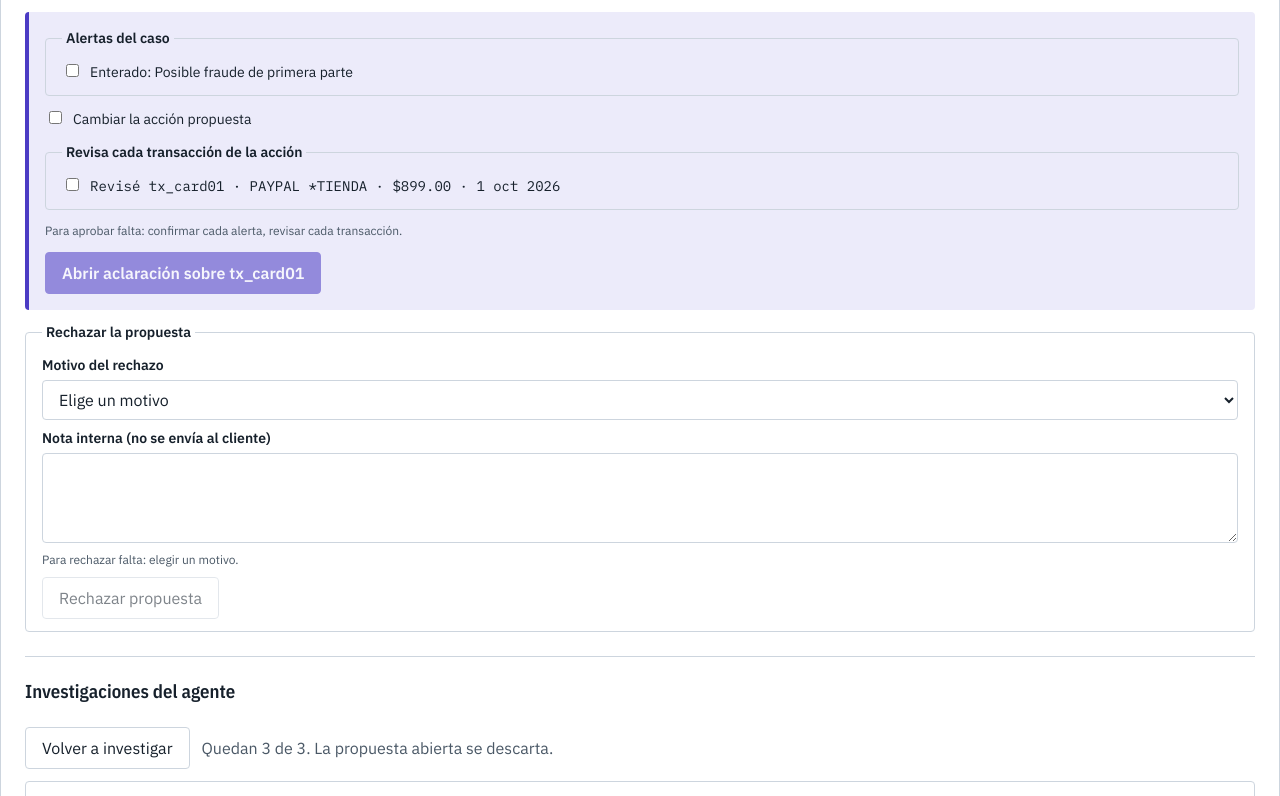
Test: decision panel (02 G3) › moves focus to what the decision did once the case is resolved
The image size is (1280, 796).
(page scrolled)
Check: the button "Rechazar propuesta" is shown, box [42,577,219,619]
Step 1. Select "Tono inadecuado" in the dropdown labelled "Motivo del rechazo" → x=640, y=400, box [42,380,1238,420]
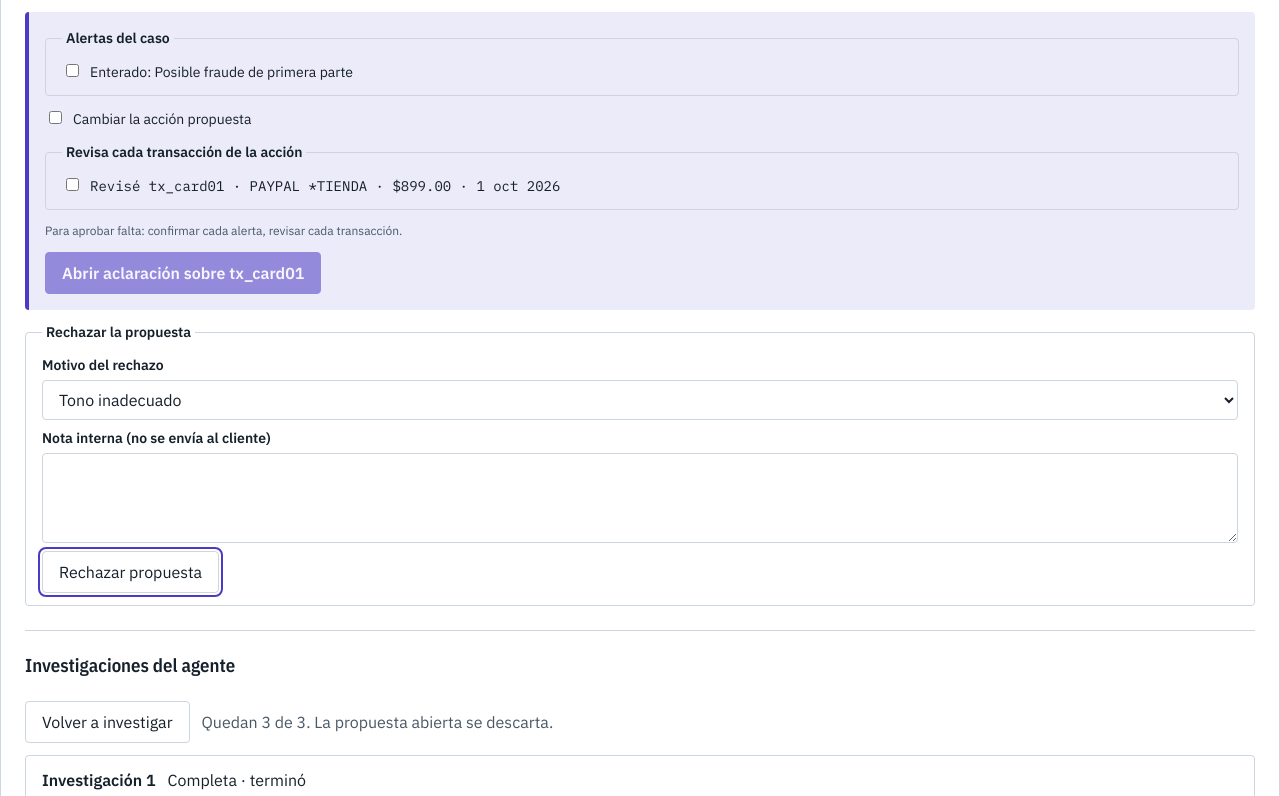
Step 2. Click the button "Rechazar propuesta" → x=131, y=572, box [42,551,219,593]
(page scrolled)
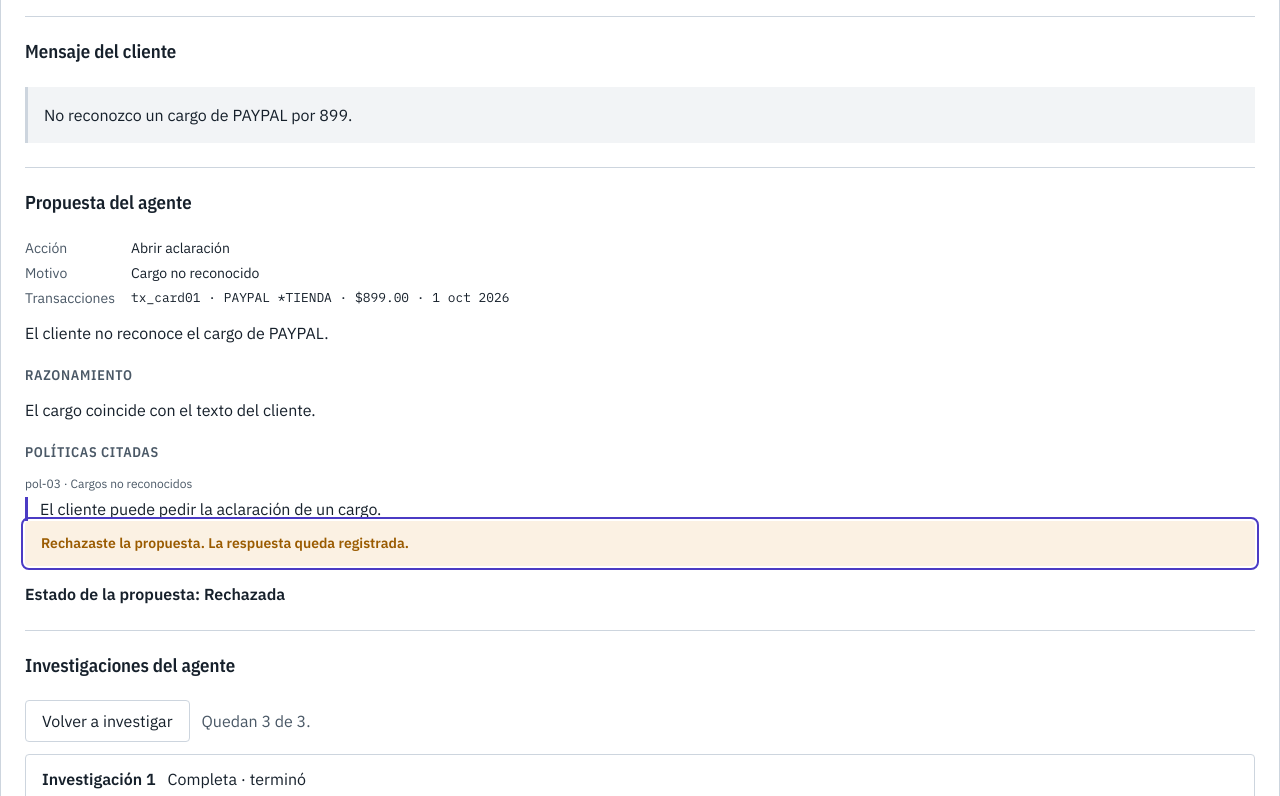
Check: the text "Estado de la propuesta: Rechazada" is shown, box [25,584,285,604]
